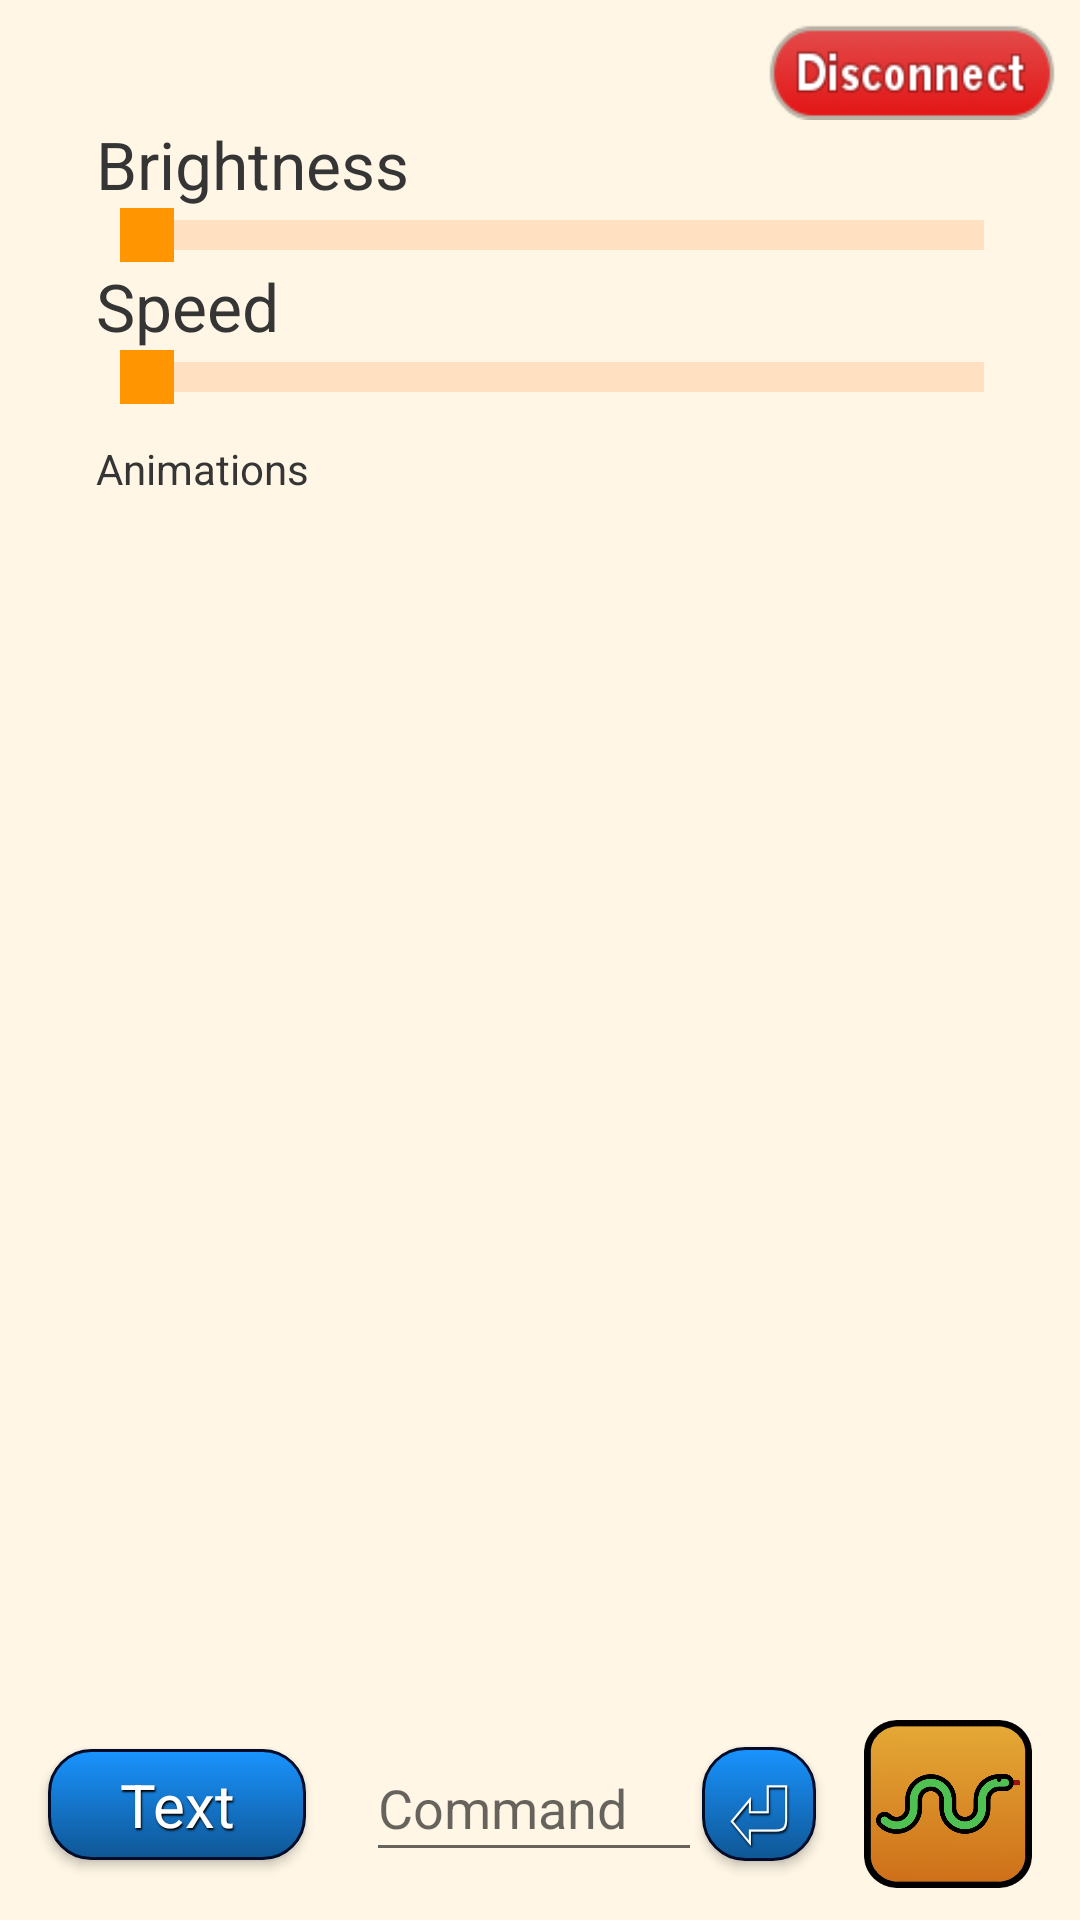

Icon click points for this 1080w x 1920h phone screenshot, format (x,y):
snake: (948,1804)
